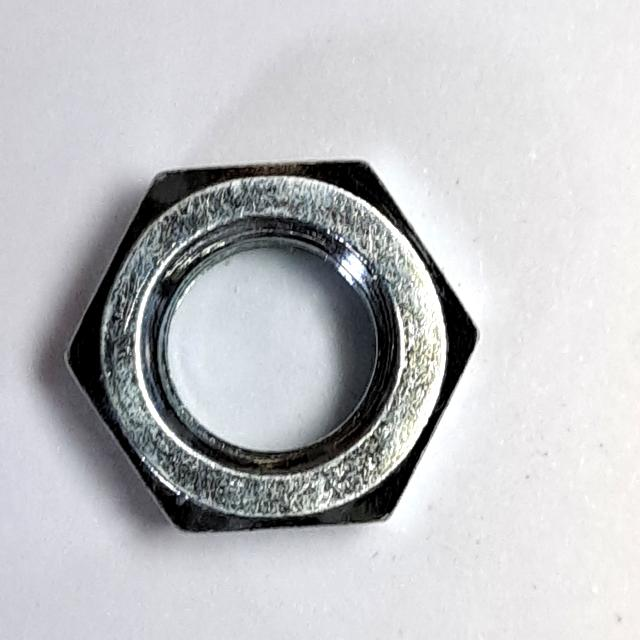Excellent: (53, 145, 499, 548)
